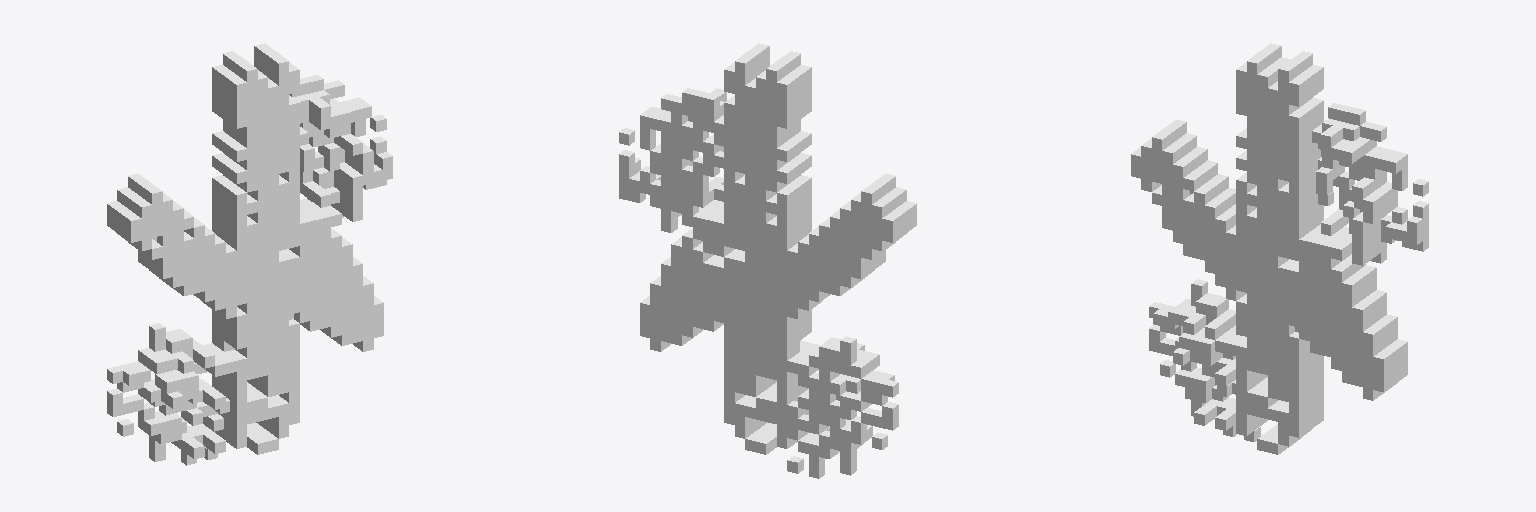
The model's file is Oblomok.obj.
The picture shows the model from 3 angles: view 1: azimuth 30°, elevation 25°; view 2: azimuth 150°, elevation 25°; view 3: azimuth 330°, elevation 25°; orthographic projection.
Parts seen in each view (by area): view 1: object 1; view 2: object 1; view 3: object 1.
Part boxes in pixels (x1,y1,x2,y2): object 1: (107,43,392,465); object 1: (619,43,916,478); object 1: (1131,43,1428,454).
Bounding box in the file's own units: 2.6 × 3.6 × 0.4.